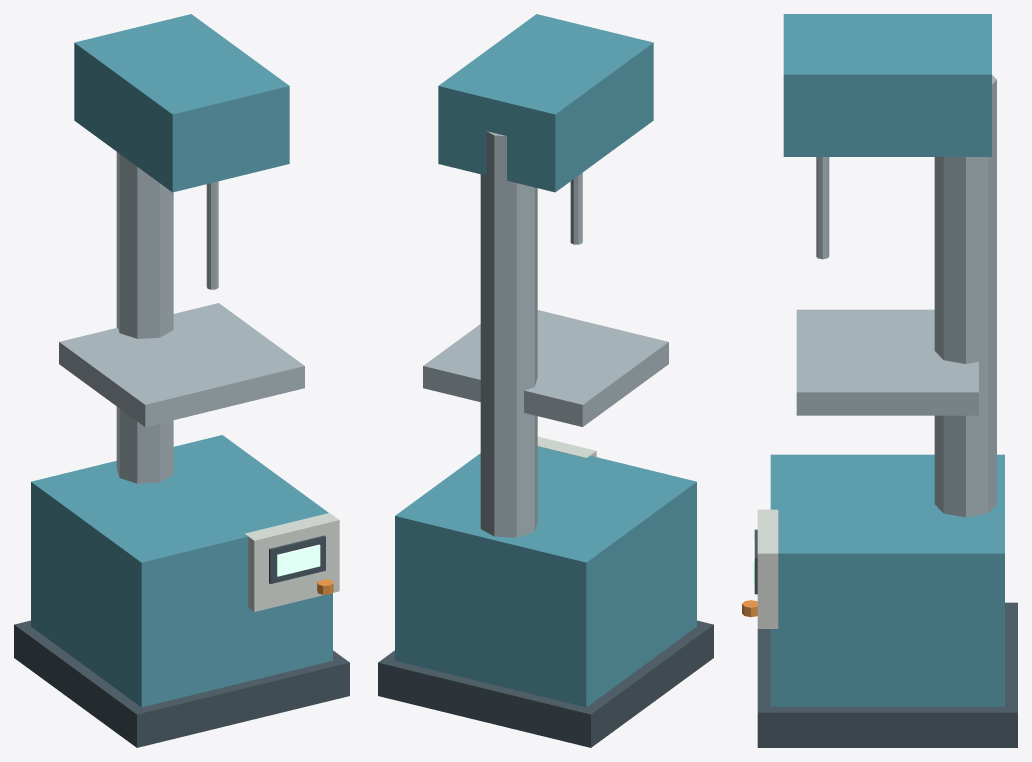
Rendered from pillar-drilling-machine.glb.
3 views of the same model, side by side, from view 1: azimuth 30°, elevation 25°; view 2: azimuth 150°, elevation 25°; view 3: azimuth 270°, elevation 25° (orthographic). The views are drawn at different scales.
Parts seen in each view (by area): view 1: blue, steel, dark, cream, light; view 2: blue, steel, dark, cream; view 3: blue, steel, dark, cream.
Boxes of the visible parts, x1,y1,x2,y2 form: blue: (31, 14, 332, 707); steel: (59, 152, 304, 483); dark: (14, 535, 349, 747); cream: (245, 513, 339, 611); light: (277, 544, 320, 576); blue: (395, 14, 696, 707); steel: (423, 131, 668, 537); dark: (378, 620, 713, 747); cream: (537, 436, 596, 458); blue: (770, 14, 1004, 706); steel: (796, 75, 996, 517); dark: (754, 529, 1017, 747); cream: (757, 509, 778, 628).
Bounding box in the file's own units: 1 × 2.75 × 1.06.
